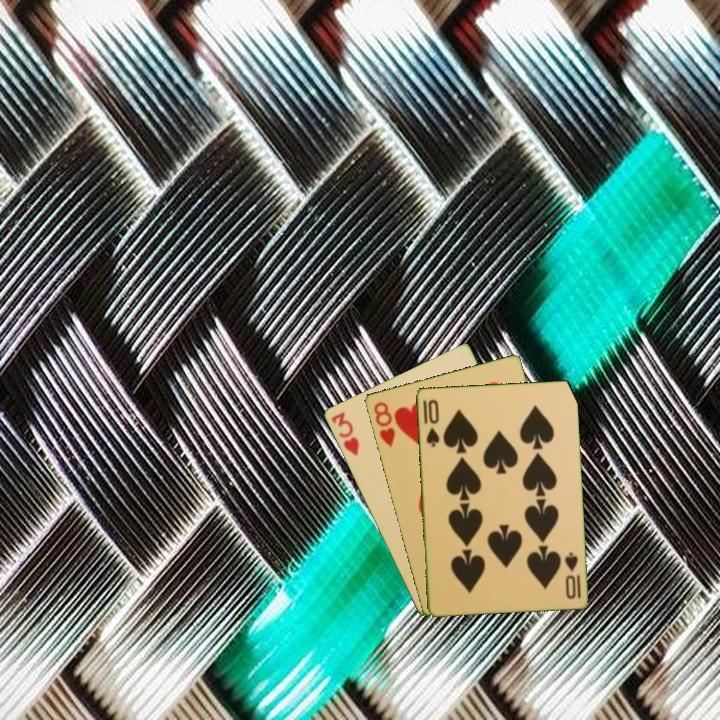10s: (561, 548, 584, 601), (422, 395, 442, 450)
3h: (327, 408, 362, 459)
8h: (370, 398, 398, 450)
